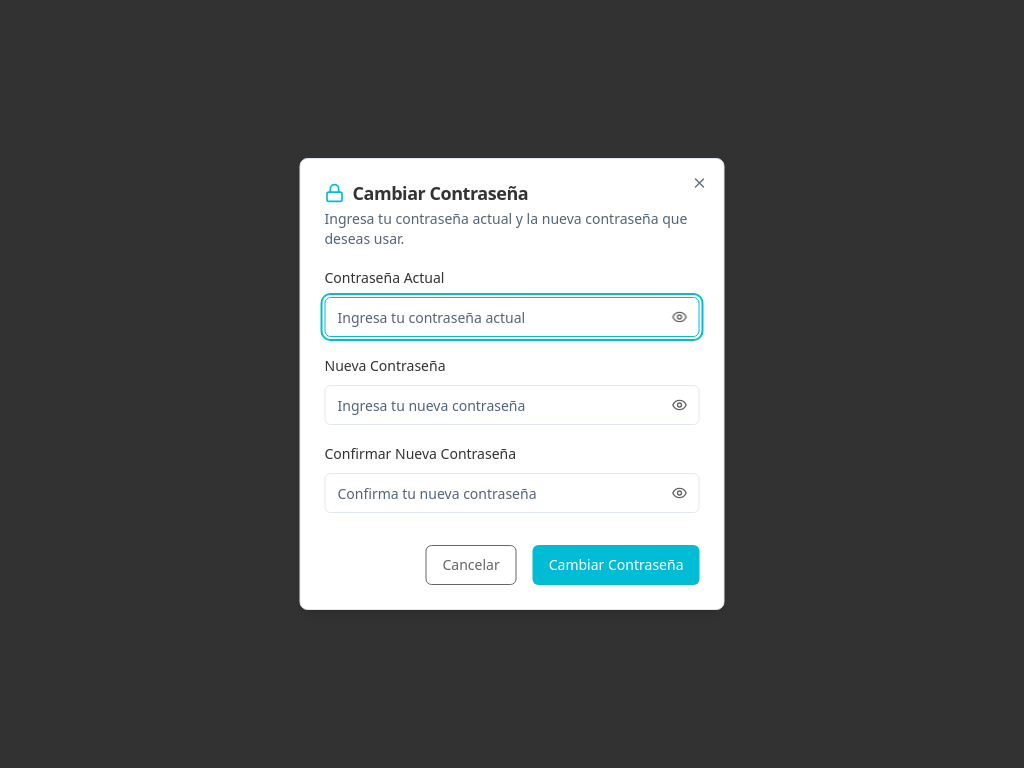
Test: ChangePasswordModal › shows weak password error
The image size is (1024, 768).
Type "currentpass" into the password field labelled "Contraseña Actual" at (512, 317), box [324,297,700,337]
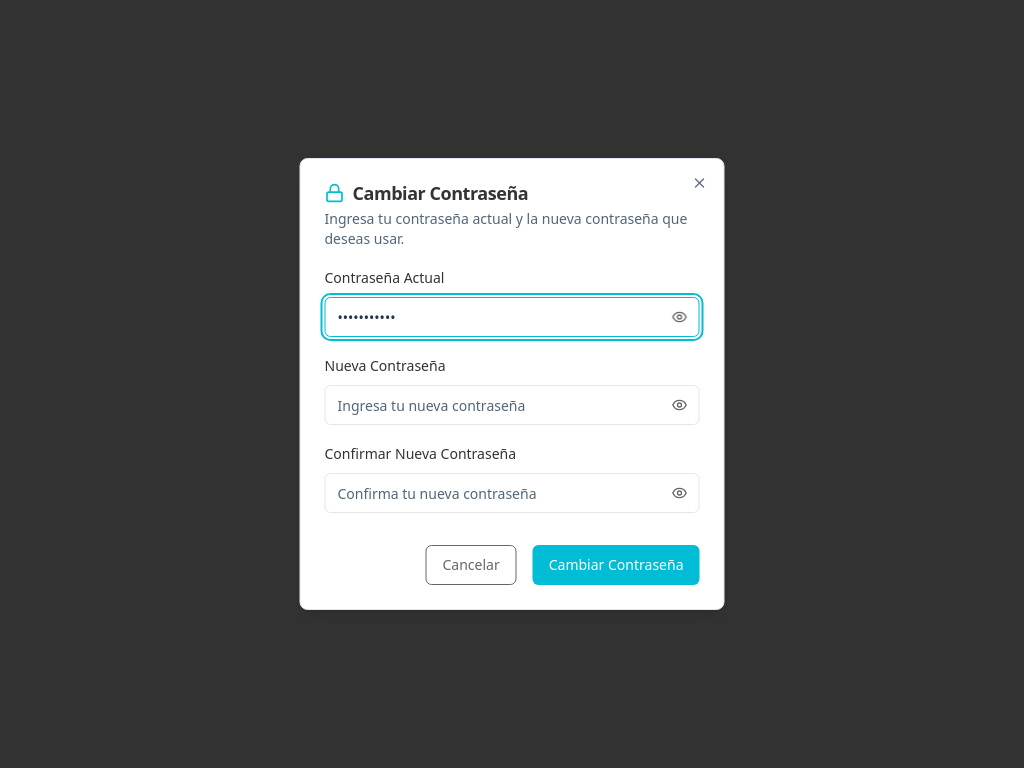
Type "123" into the password field labelled "Nueva Contraseña" at (512, 405), box [324,385,700,425]
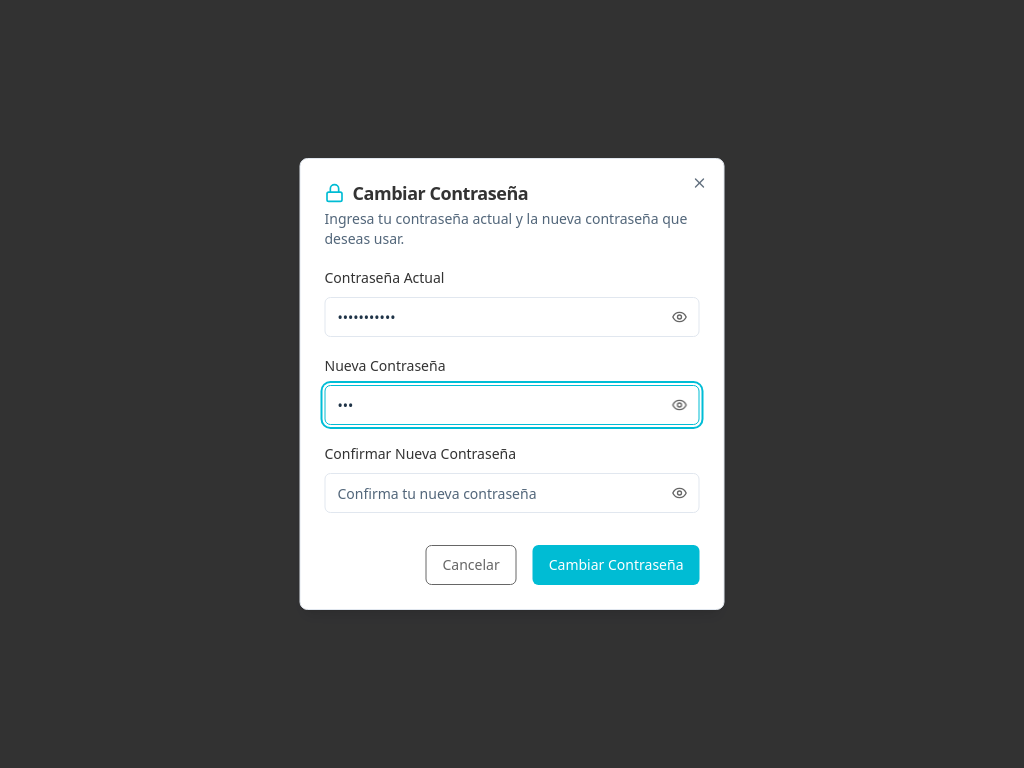
Type "123" into the password field labelled "Confirmar Nueva Contraseña" at (512, 493), box [324,473,700,513]
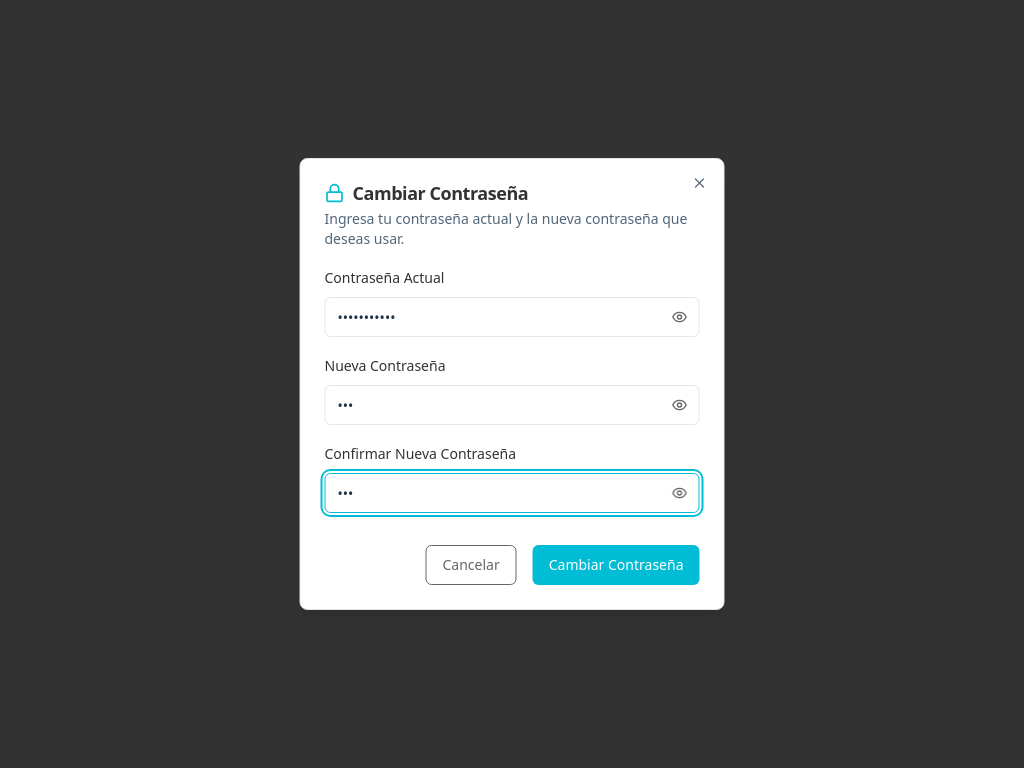
Click the button "Cambiar Contraseña" at (616, 565), box [533,545,700,585]
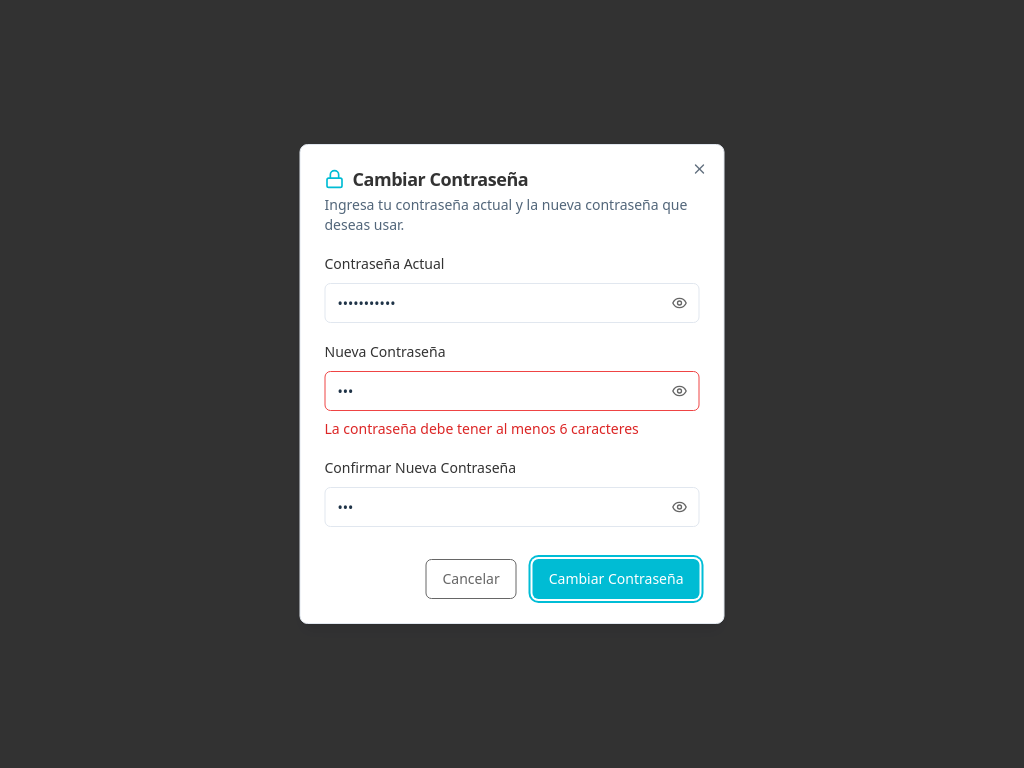
Expected: the text "La contraseña debe tener al menos 6 caracteres" is shown, [324,419,639,438]
